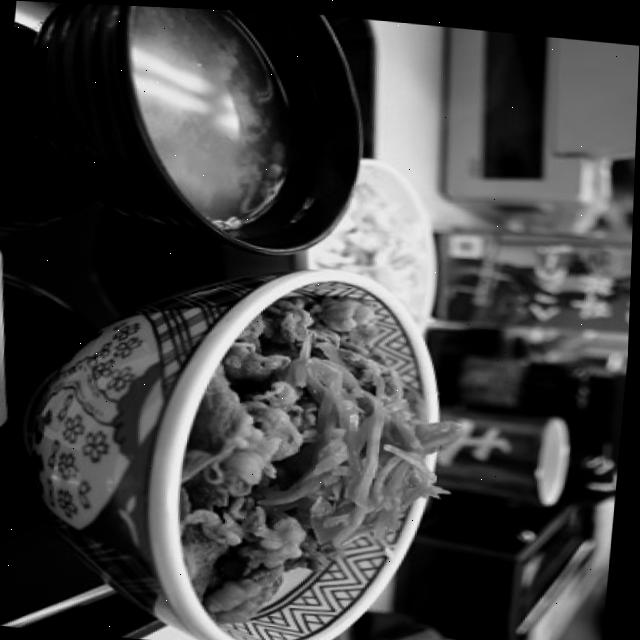汤锅炖物: (95, 4, 394, 273)
